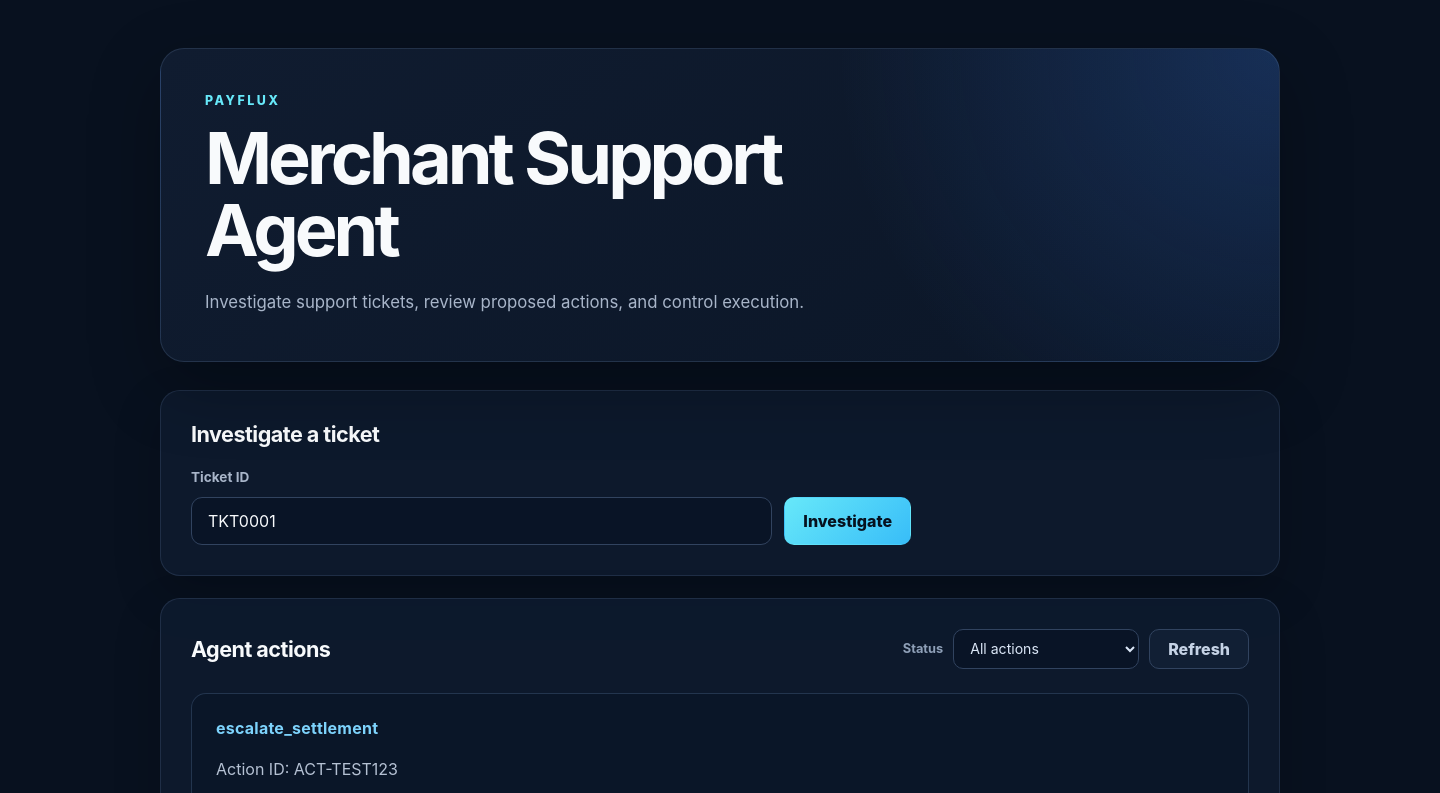
Test: PayFlux dashboard › filters actions by selected status
Expected: the text "Action ID: ACT-TEST123" is shown, x1=216 y1=758 x2=398 y2=778
Select "Pending approval" in the dropdown labelled "Status" at [1046, 648], box x1=953 y1=628 x2=1139 y2=668
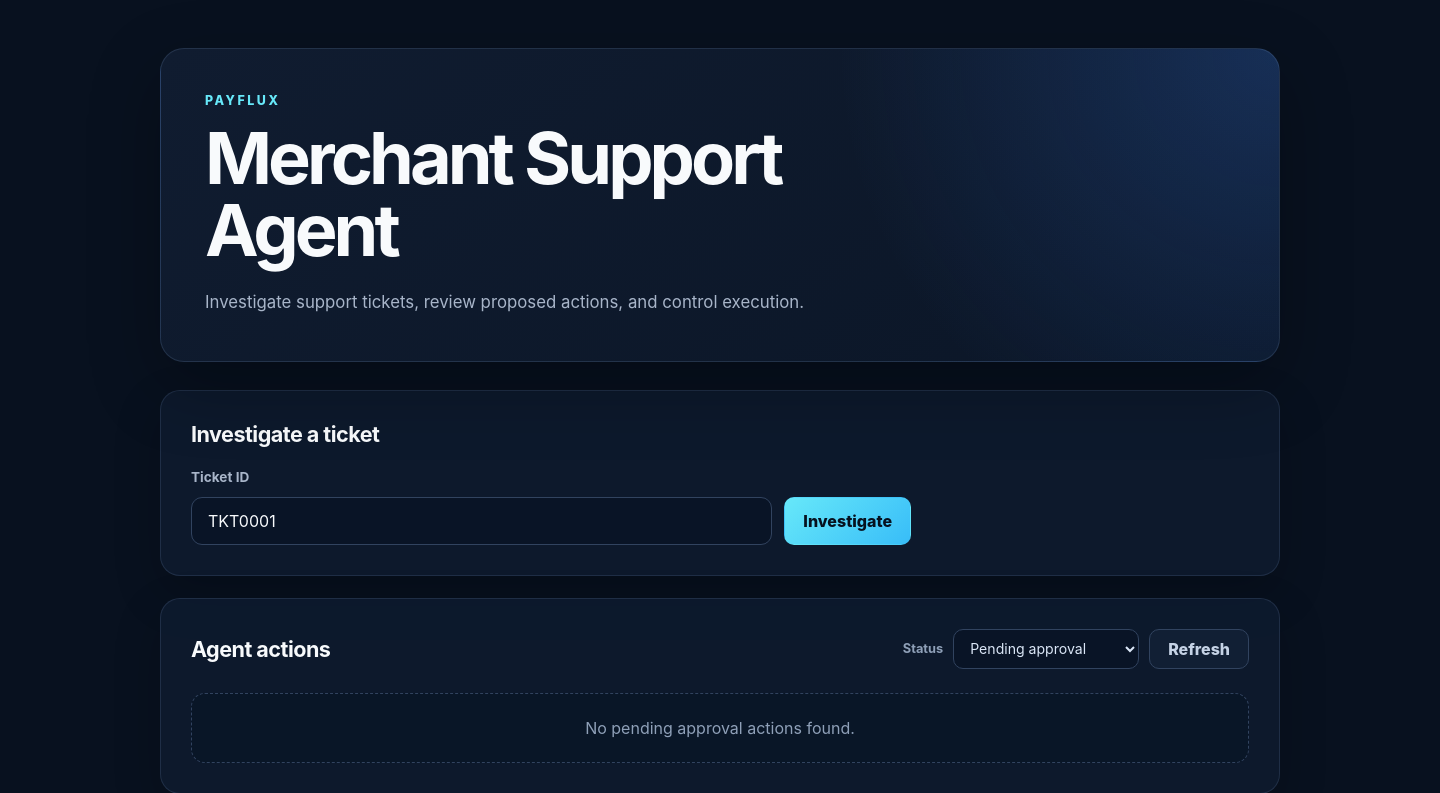
Now the text "No pending approval actions found." is shown, box x1=191 y1=692 x2=1249 y2=762
